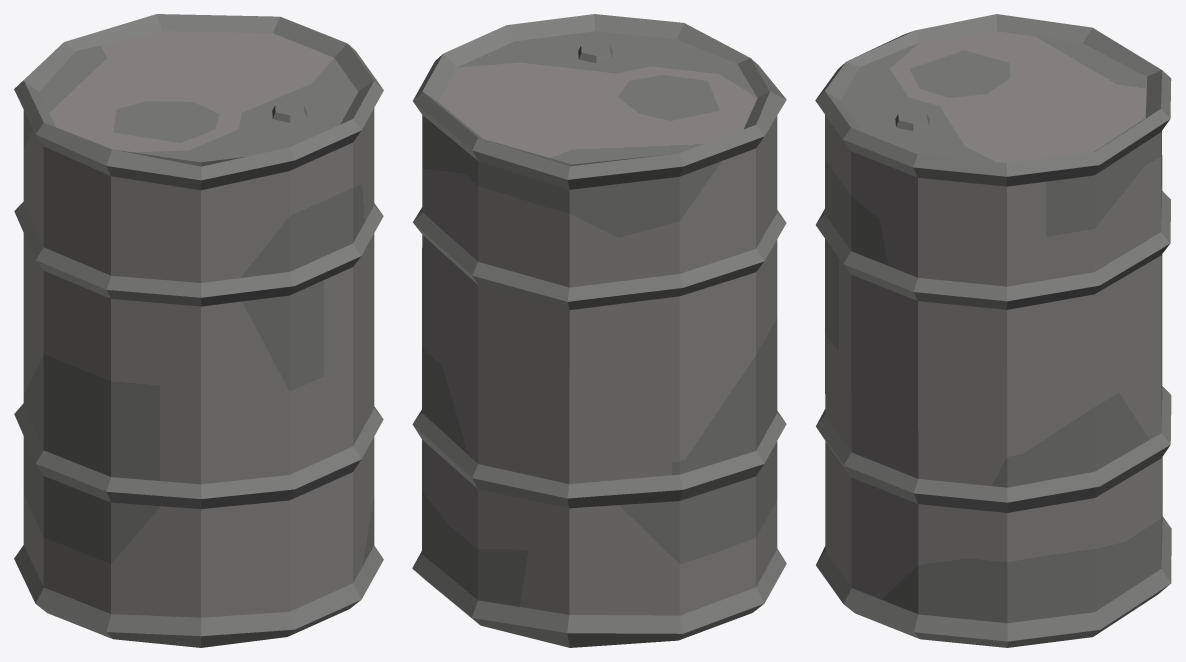
Rendered from barrel.glb.
3 renders of one model, left to right at view 1: azimuth 30°, elevation 25°; view 2: azimuth 150°, elevation 25°; view 3: azimuth 270°, elevation 25°, orthographic.
Parts seen in each view (by area): view 1: SM_Prop_Barrel_01; view 2: SM_Prop_Barrel_01; view 3: SM_Prop_Barrel_01.
Boxes of the visible parts, bbox=[...] form: SM_Prop_Barrel_01: bbox=[14, 14, 383, 647]; SM_Prop_Barrel_01: bbox=[412, 14, 786, 647]; SM_Prop_Barrel_01: bbox=[815, 14, 1171, 647].
Size of the model in its own units: 0.7261 by 1.05 by 0.6949.
Materials: 1 (1 with a texture image).
